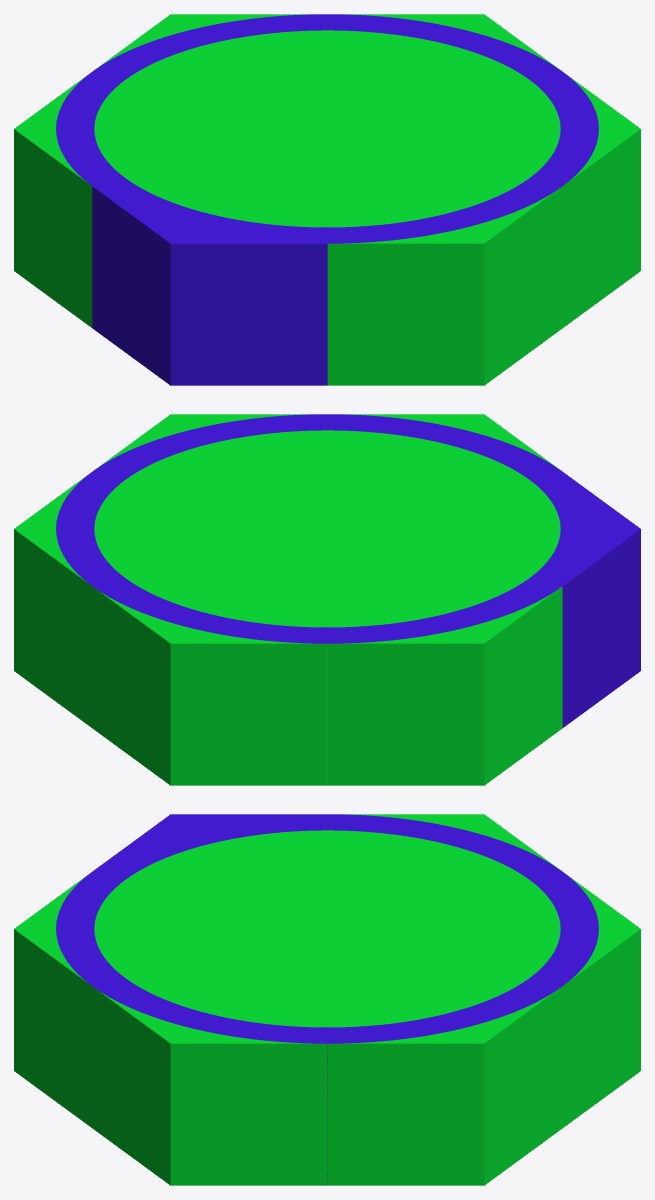
File: Hexagon4.FBX
3 views of the same model, one above another, from view 1: azimuth 30°, elevation 25°; view 2: azimuth 150°, elevation 25°; view 3: azimuth 270°, elevation 25° (orthographic).
Parts seen in each view (by area): view 1: Inner, Outter6, Outter5, Outter1, Outter4, Outter2, Outter3; view 2: Inner, Outter1, Outter2, Outter3, Outter6, Outter4, Outter5; view 3: Inner, Outter3, Outter4, Outter2, Outter5, Outter1, Outter6.
Boxes of the visible parts, x1,y1,x2,y2 form: Inner: (56, 14, 598, 243); Outter6: (92, 186, 327, 385); Outter5: (327, 186, 562, 385); Outter1: (14, 73, 92, 327); Outter4: (562, 73, 640, 327); Outter2: (96, 14, 309, 68); Outter3: (345, 14, 558, 68); Inner: (56, 414, 598, 643); Outter1: (327, 586, 562, 785); Outter2: (92, 586, 327, 785); Outter3: (14, 473, 92, 727); Outter6: (562, 473, 640, 727); Outter4: (96, 414, 309, 468); Outter5: (345, 414, 558, 468); Inner: (56, 814, 598, 1182); Outter3: (327, 986, 562, 1185); Outter4: (92, 986, 327, 1185); Outter2: (562, 873, 640, 1127); Outter5: (14, 873, 92, 1127); Outter1: (345, 814, 558, 868); Outter6: (96, 814, 309, 868).
Bounding box in the file's own units: 1.73 × 2 × 0.5.
